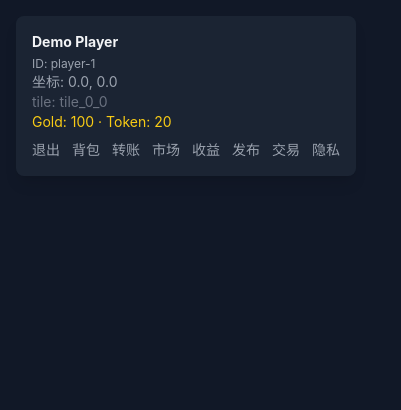
Scenario: PlayerHUD inventory › updates optional privacy consent from the player HUD
The image size is (401, 410).
Click the button "隐私". click: (326, 150)
box: top-left (312, 140), bottom-right (340, 160)
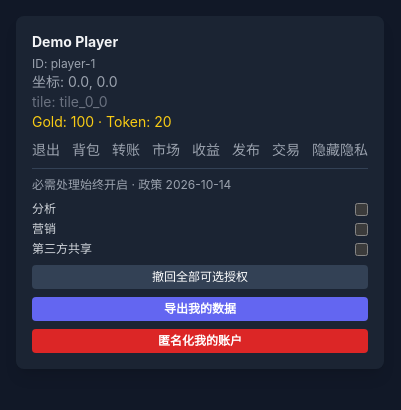
Click the checkbox labelled "分析". click: (362, 209)
box: top-left (355, 202), bottom-right (368, 216)
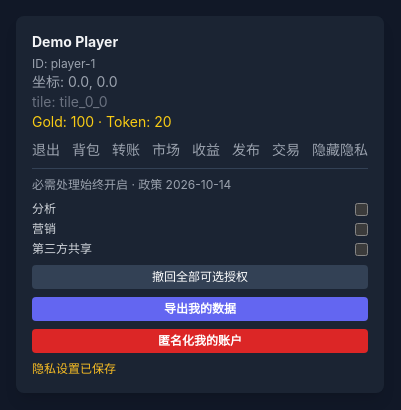
Check: the text "隐私设置已保存" is shown, box top-left (32, 361), bottom-right (116, 376)
